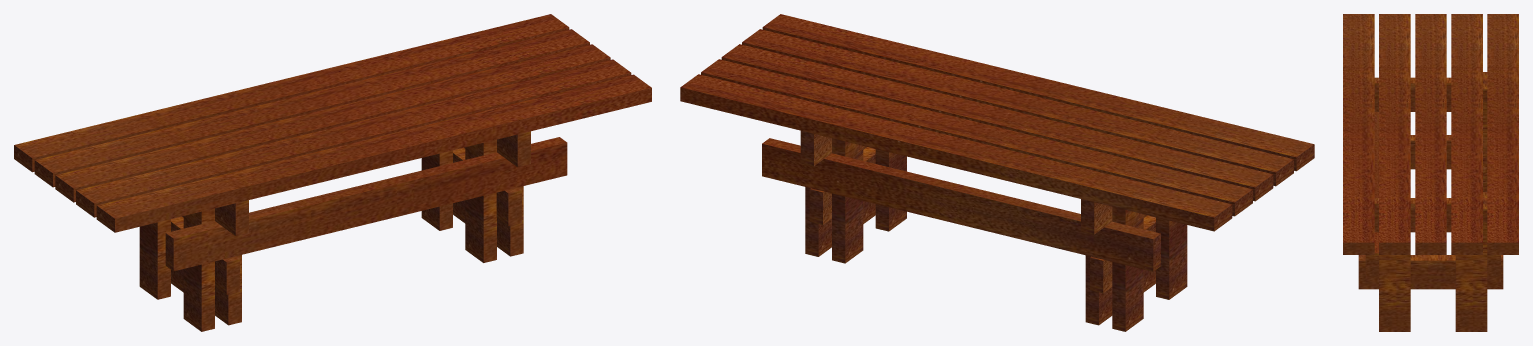
3 renders of one model, left to right at view 1: azimuth 30°, elevation 25°; view 2: azimuth 150°, elevation 25°; view 3: azimuth 270°, elevation 25°, orthographic. The views are drawn at different scales.
Visible parts, largest first — view 1: mesh9_mesh9-geometry, mesh7_mesh7-geometry, mesh1_mesh1-geometry, mesh5_mesh5-geometry, mesh3_mesh3-geometry; view 2: mesh9_mesh9-geometry, mesh7_mesh7-geometry, mesh1_mesh1-geometry, mesh5_mesh5-geometry, mesh3_mesh3-geometry; view 3: mesh9_mesh9-geometry, mesh1_mesh1-geometry, mesh5_mesh5-geometry, mesh7_mesh7-geometry, mesh3_mesh3-geometry.
Boxes of the visible parts, box(x1,y1,x2,y2) form: mesh9_mesh9-geometry: box(14, 14, 651, 232); mesh7_mesh7-geometry: box(165, 137, 567, 271); mesh1_mesh1-geometry: box(139, 139, 523, 331); mesh5_mesh5-geometry: box(171, 147, 521, 294); mesh3_mesh3-geometry: box(215, 131, 530, 235); mesh9_mesh9-geometry: box(680, 14, 1314, 231); mesh7_mesh7-geometry: box(762, 138, 1160, 271); mesh1_mesh1-geometry: box(805, 138, 1187, 331); mesh5_mesh5-geometry: box(809, 147, 1155, 293); mesh3_mesh3-geometry: box(800, 130, 1112, 234); mesh9_mesh9-geometry: box(1343, 14, 1518, 254); mesh1_mesh1-geometry: box(1379, 72, 1487, 331); mesh5_mesh5-geometry: box(1358, 135, 1503, 289); mesh7_mesh7-geometry: box(1365, 112, 1500, 281); mesh3_mesh3-geometry: box(1374, 77, 1487, 232).
Bounding box in the file's own units: 0.9201 × 0.253 × 0.299.
